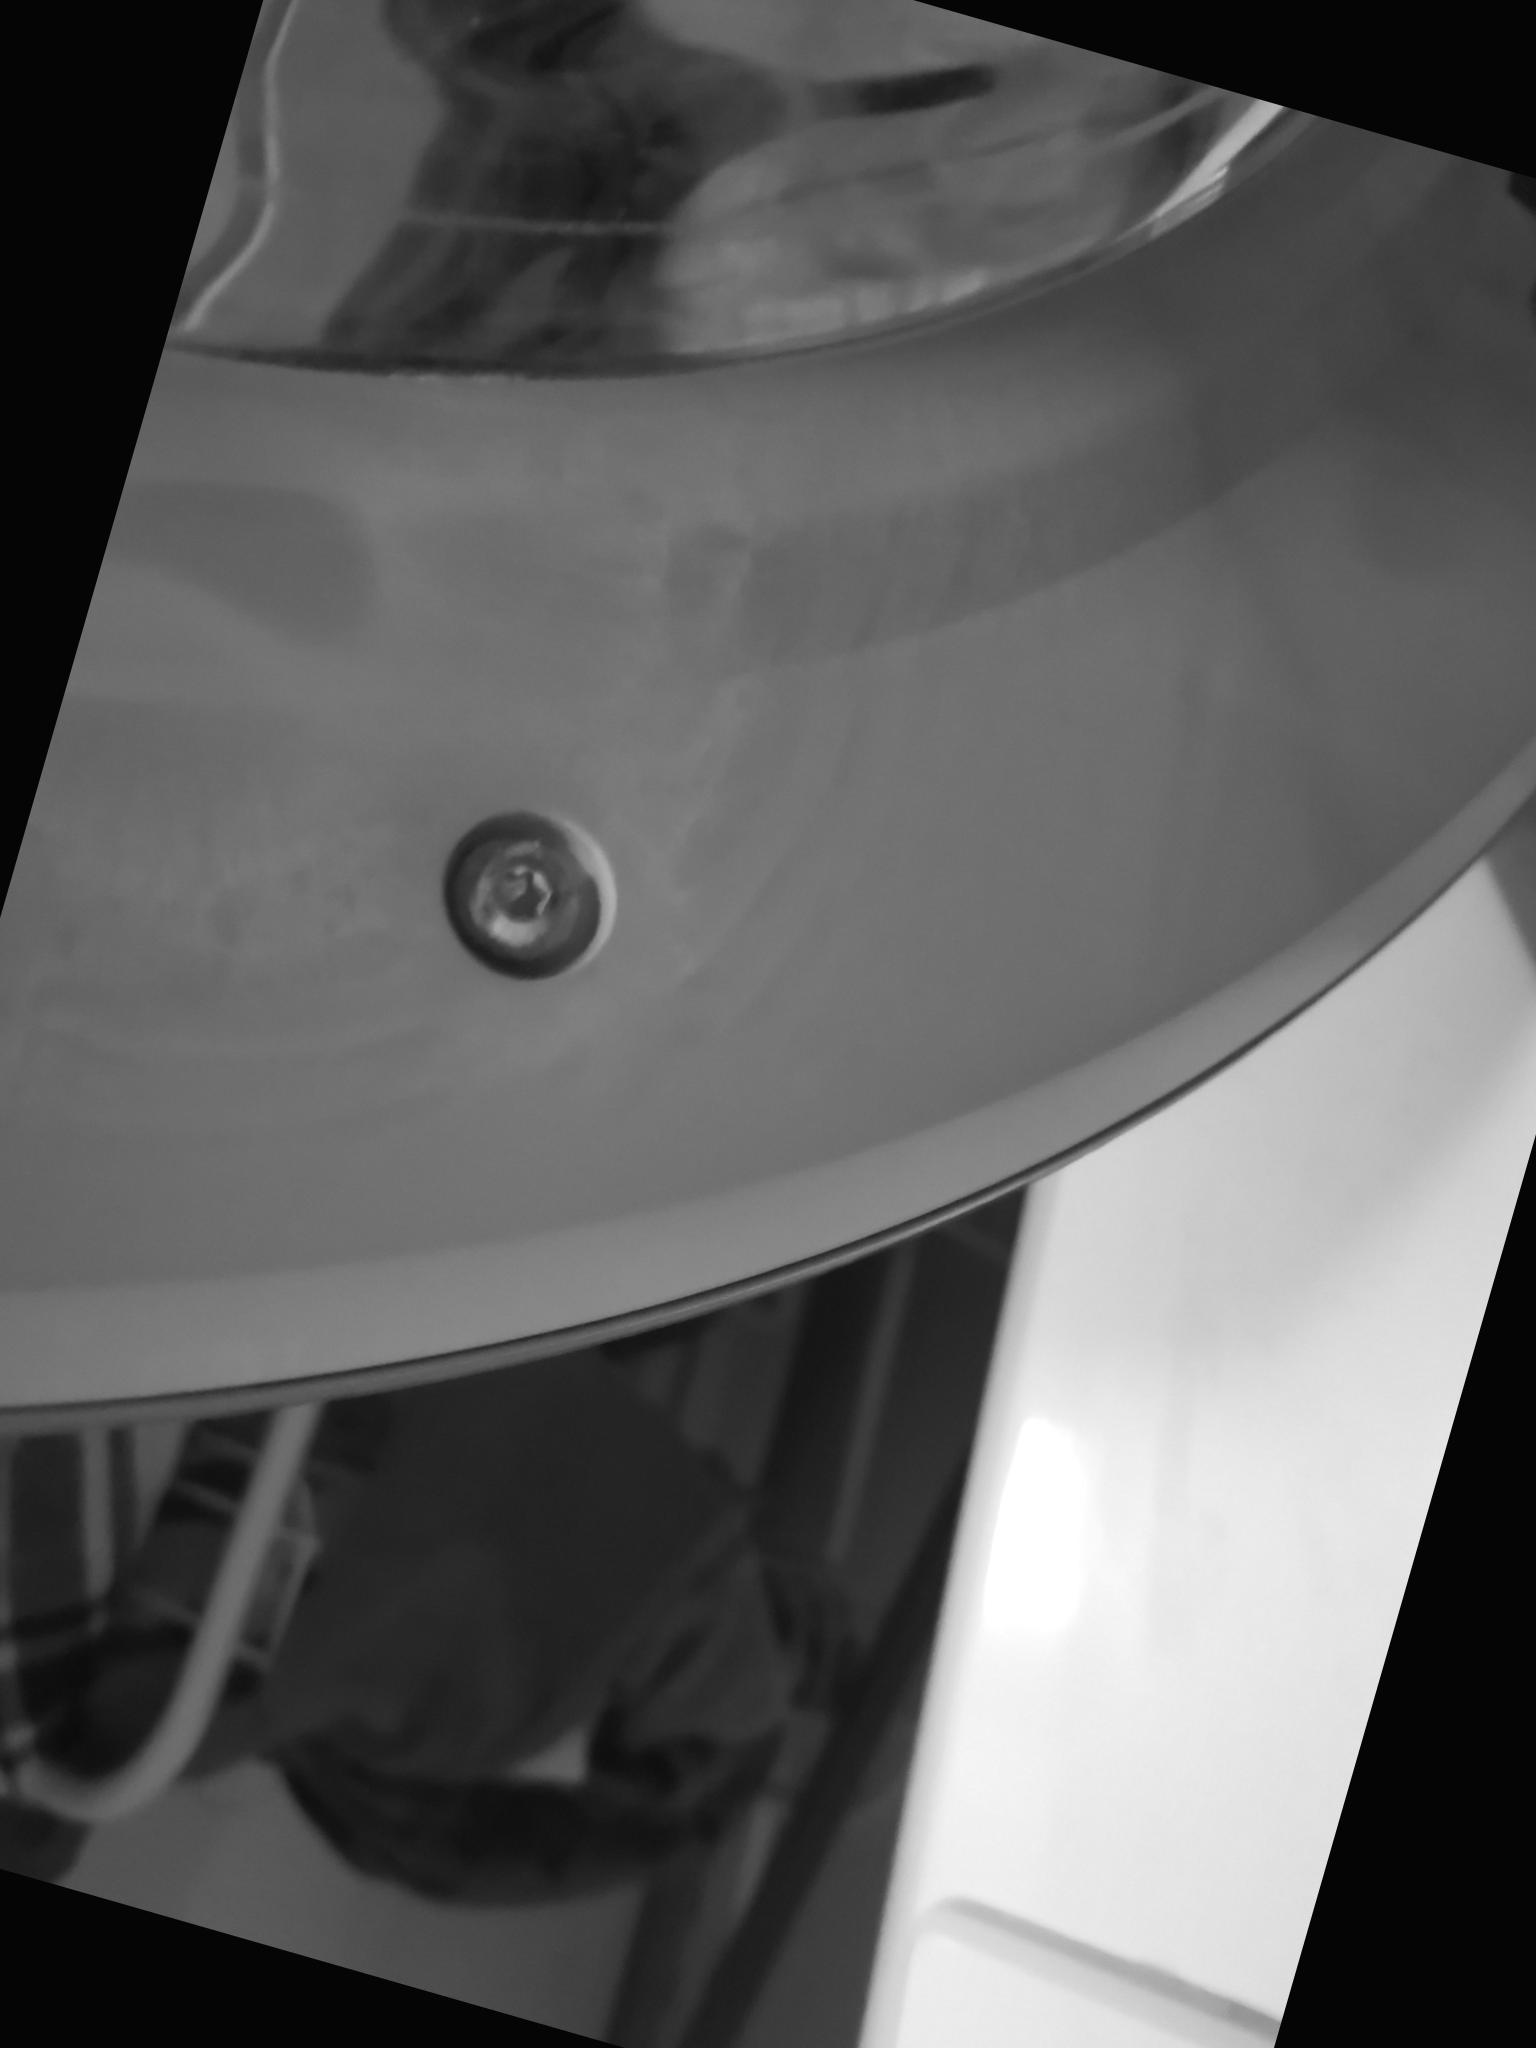screw: (416, 798, 616, 987)
